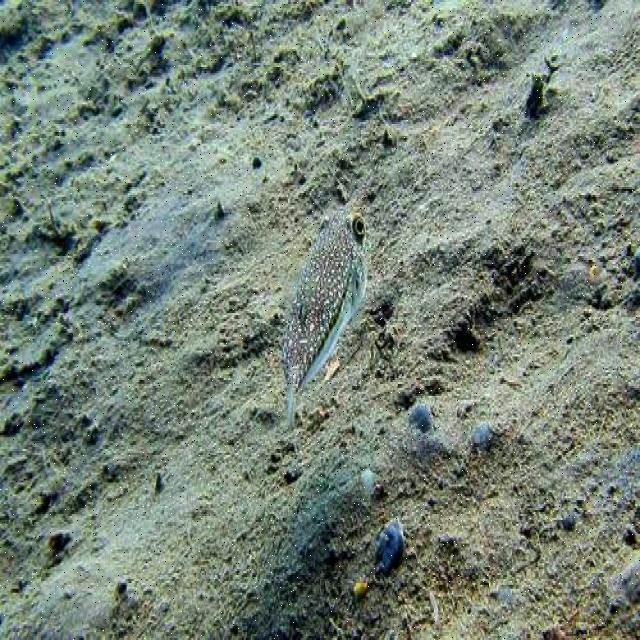Balik: (283, 211, 367, 425)
